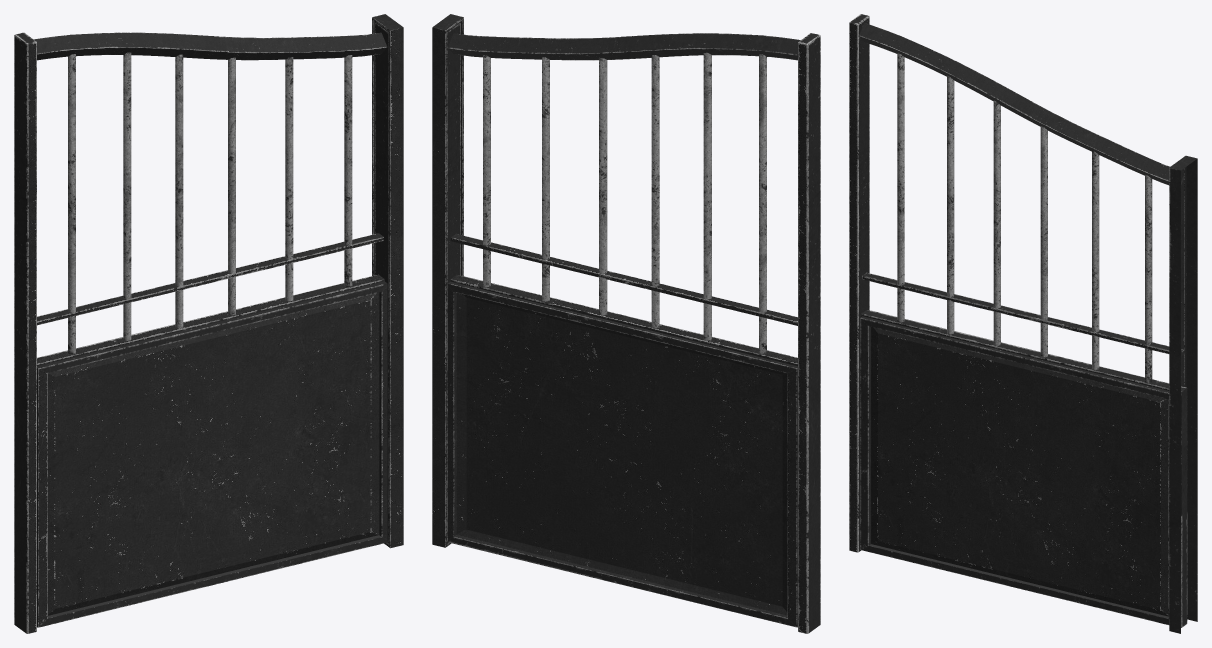
File: campus_gate_right.glb
3 views of the same model, side by side, from view 1: azimuth 30°, elevation 25°; view 2: azimuth 150°, elevation 25°; view 3: azimuth 330°, elevation 25° (orthographic). The views are drawn at different scales.
Parts seen in each view (by area): view 1: defaultMaterial (×2); view 2: defaultMaterial (×2); view 3: defaultMaterial (×2).
Part boxes in pixels (x1,y1,x2,y2): defaultMaterial (×2): [14, 14, 403, 633]; defaultMaterial (×2): [432, 14, 820, 633]; defaultMaterial (×2): [849, 14, 1197, 633].
Bounding box in the file's own units: 2.1 × 3.17 × 0.1791.
2 materials, 2 textured.
